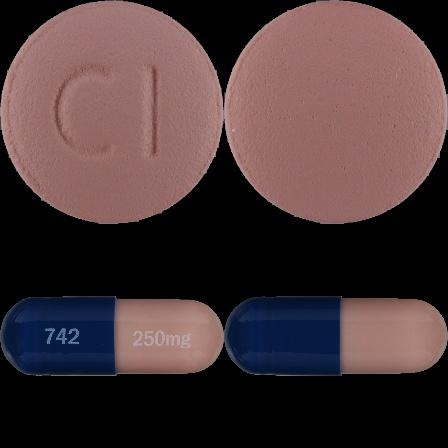16729-218: (0, 0, 224, 224)
